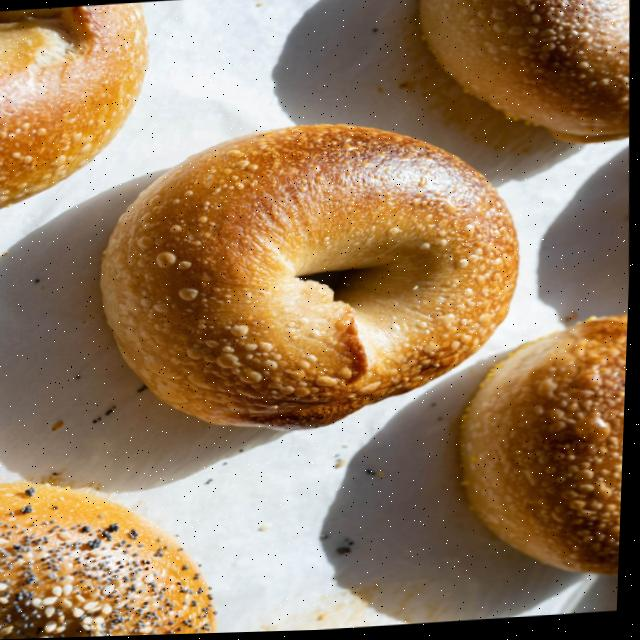Bagel: (102, 126, 520, 431)
